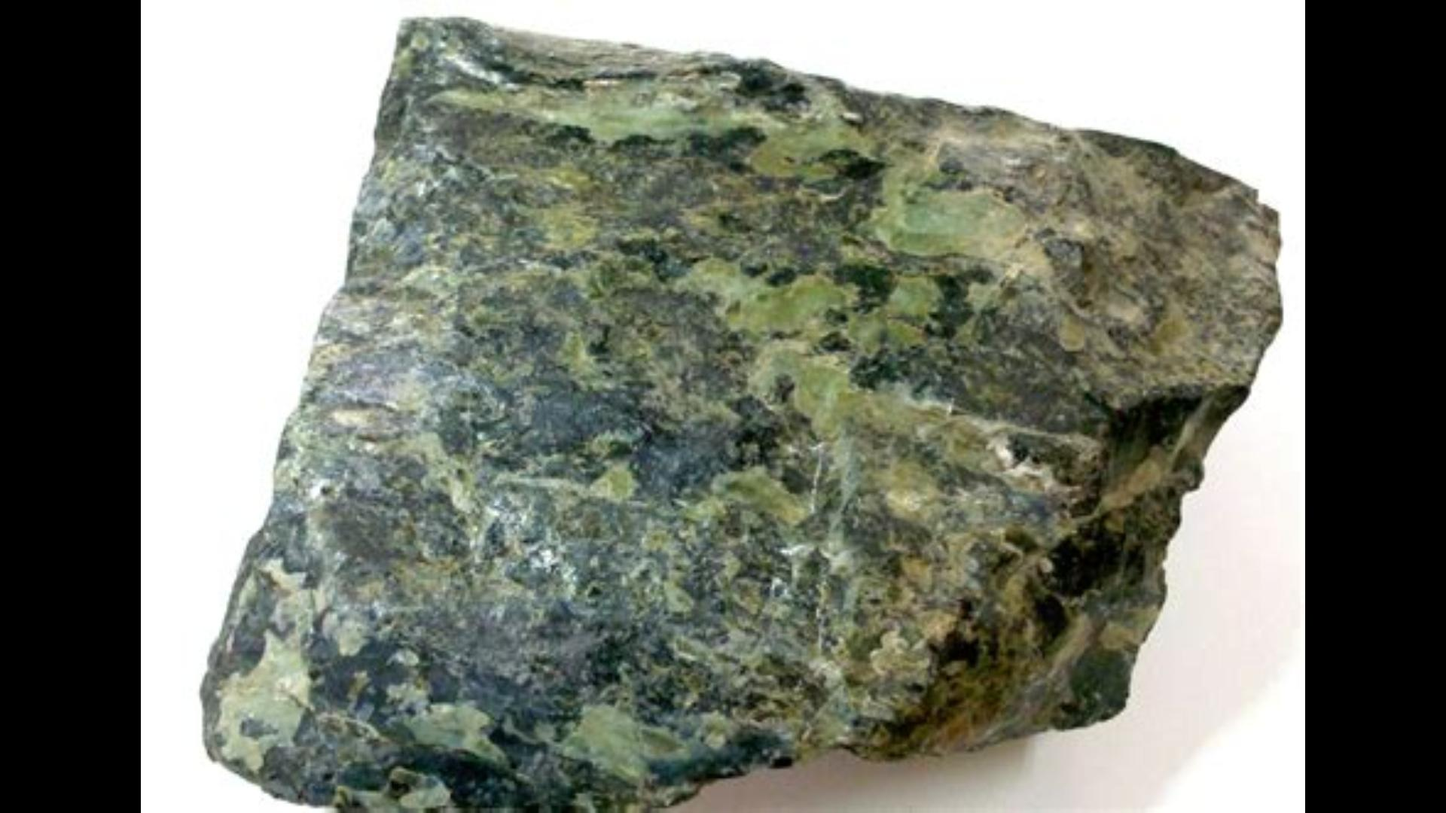rock: (210, 17, 1276, 806)
